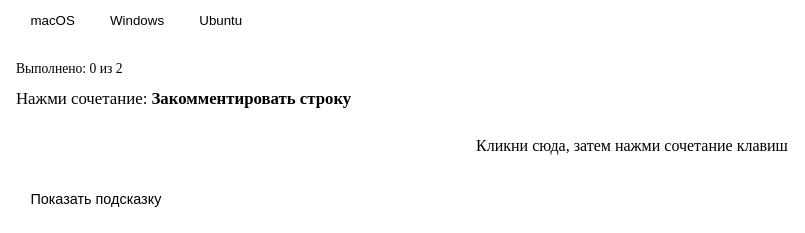
browserReserved item is checked with a confirm button and an honest browser warning
This screenshot has width=805, height=233.
Press / in the text named "Зона тренировки", box [476, 137, 788, 154]
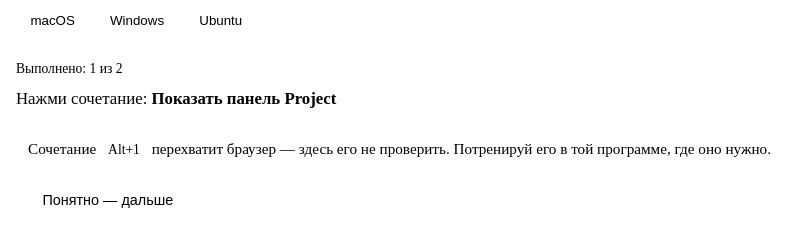
Expected: the text "перехватит браузер" is shown, [148, 140, 771, 157]
Click the button "Понятно — дальше": click(108, 200) [28, 186, 188, 214]
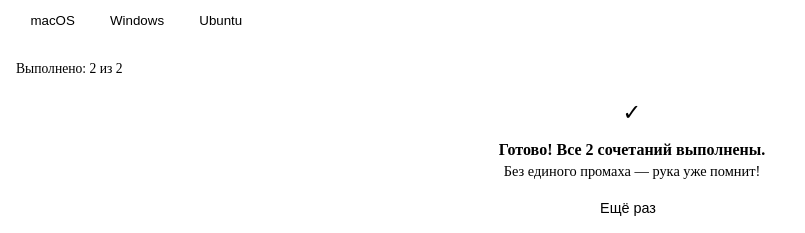
Expected: the text "Готово! Все 2 сочетаний выполнены." is shown, [499, 141, 765, 158]
